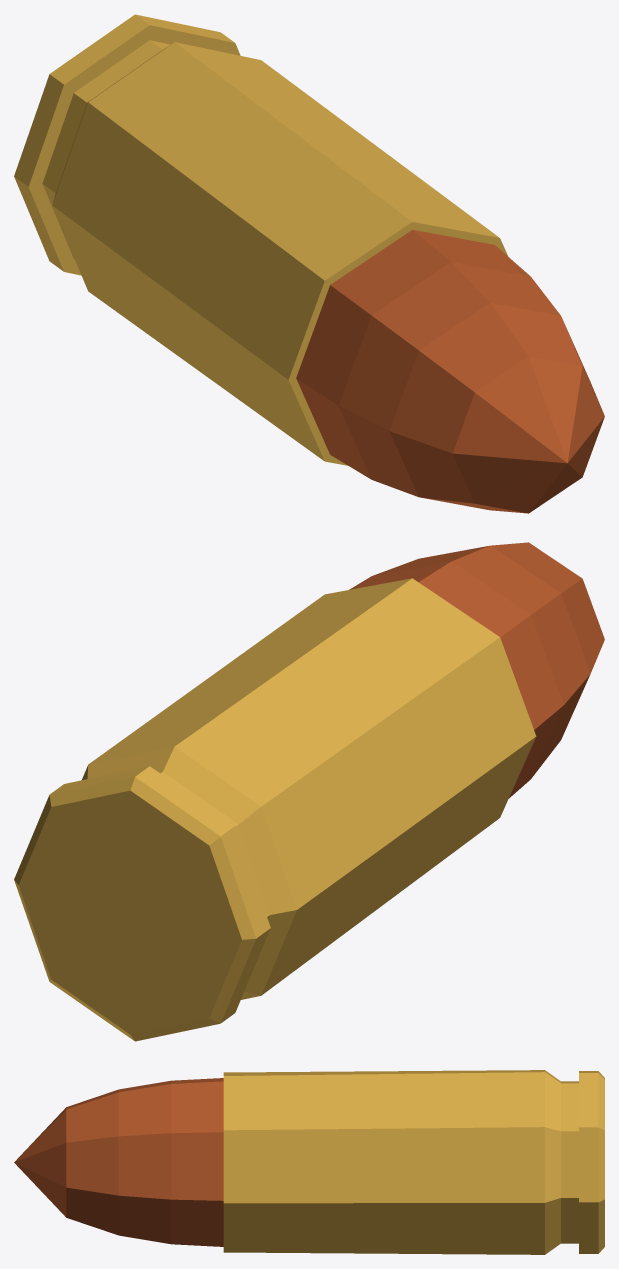
The model's file is Cartridge.fbx.
The picture shows the model from 3 angles, top to bottom: view 1: azimuth 30°, elevation 25°; view 2: azimuth 150°, elevation 25°; view 3: azimuth 270°, elevation 25°; orthographic projection. The views are drawn at different scales.
Parts seen in each view (by area): view 1: Casing, Bullet; view 2: Casing, Bullet; view 3: Casing, Bullet.
Boxes of the visible parts, x1=… form: Casing: x1=14, y1=14, x2=508, y2=465; Bullet: x1=296, y1=229, x2=604, y2=513; Casing: x1=14, y1=578, x2=536, y2=1041; Bullet: x1=349, y1=542, x2=604, y2=798; Casing: x1=223, y1=1070, x2=604, y2=1254; Bullet: x1=14, y1=1078, x2=223, y2=1246.
Size of the model in its own units: 0.9721 by 1 by 2.97.
